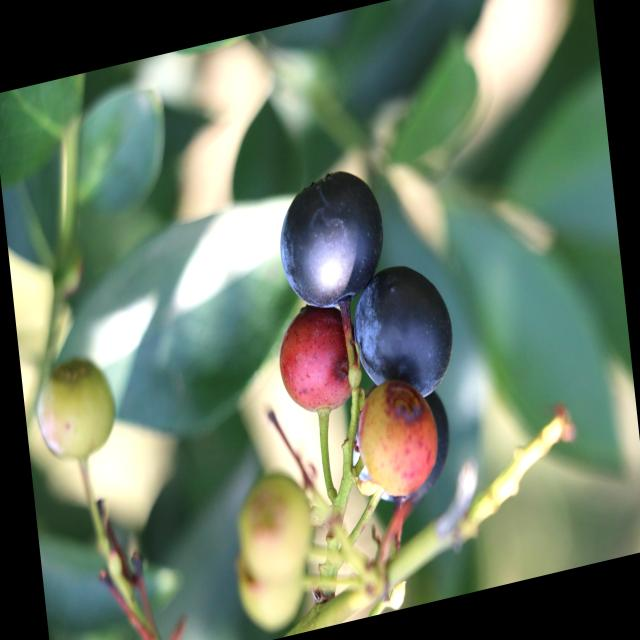blueberry: (270, 160, 392, 320), (349, 255, 457, 409), (349, 381, 455, 514)
blueberry-halfripe: (274, 299, 358, 429)
blueberry-unripe: (27, 342, 121, 477), (231, 466, 316, 582)
